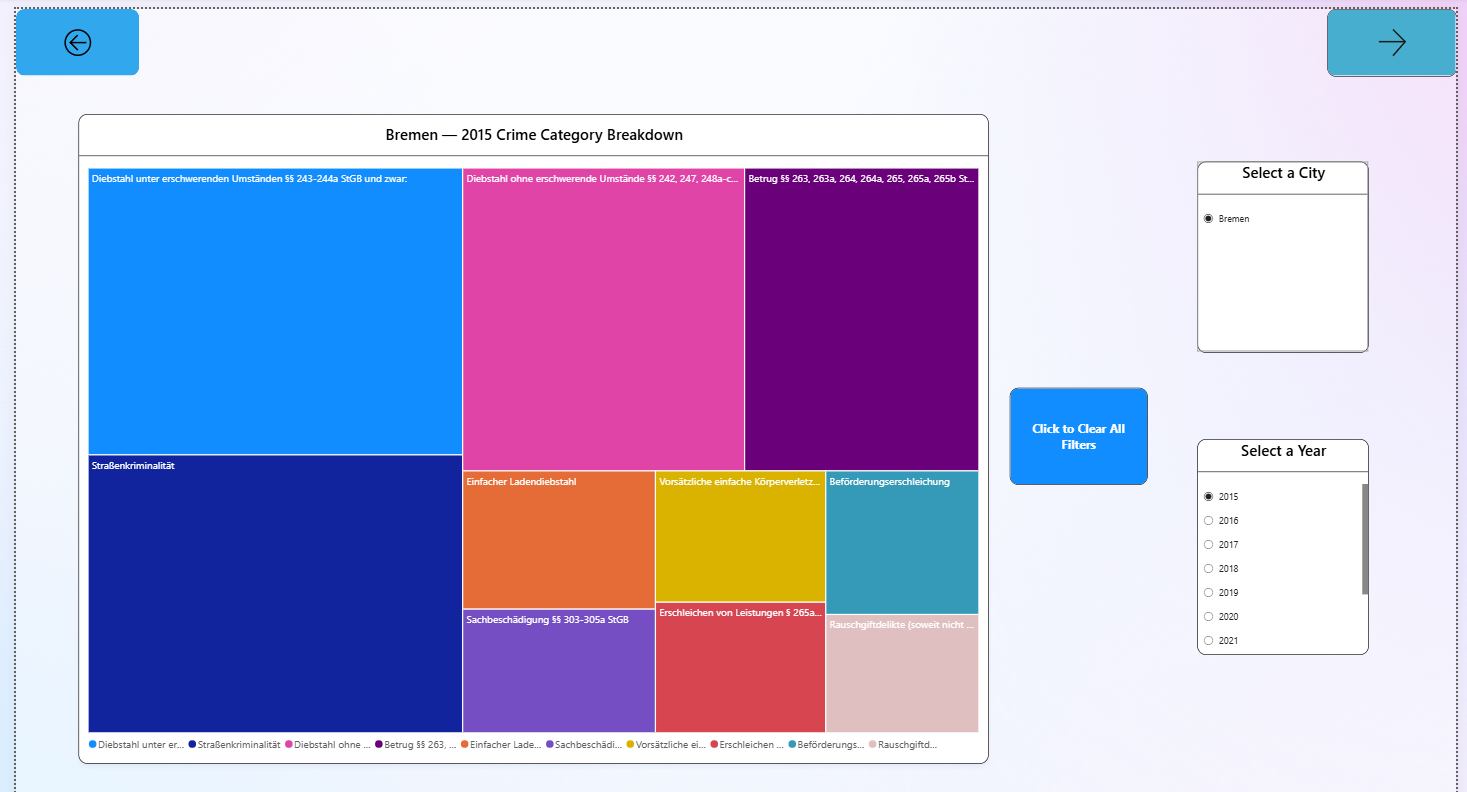

The page's visual inventory and layout, read from the dashboard file:
{"tool":"powerbi","page":{"name":"Category Breakdown","canvas":[1920,1080],"ordinal":1},"visuals":[{"type":"slicer","title":"Select a City","fields":{"Values":["Dim_City.Stadt"]},"box":[1575,202.5,229,255],"z":0},{"type":"slicer","title":"Select a Year ","fields":{"Values":["Dim_Year.Year"]},"box":[1575,572.5,229,288.1],"z":1000},{"type":"treemap","fields":{"Group":["Dim_Category.Straftat"],"Values":["Sum(Fact_Crime_ByCategory.erfasste Fälle)"]},"box":[82.6,139.3,1213.6,866.5],"z":2000},{"type":"actionButton","box":[0,0,164.2,88.9],"z":3000},{"type":"actionButton","box":[1324.6,505.3,184.2,129.9],"z":4000},{"type":"actionButton","box":[1747.5,0,172.5,90],"z":5000}]}

Visuals, with their boxes on the page's 1920x1080 design canvas (x1, y1, x2, y2). These are canvas units, not pixel positions in the 1467x792 screenshot, which may show the page scaled, cropped or inside an application window:
"Select a City" slicer: [1575, 202, 1804, 458]
"Select a Year " slicer: [1575, 572, 1804, 861]
treemap - Dim_Category.Straftat x Sum(Fact_Crime_ByCategory.erfasste Fälle): [83, 139, 1296, 1006]
actionButton: [0, 0, 164, 89]
actionButton: [1325, 505, 1509, 635]
actionButton: [1748, 0, 1920, 90]
